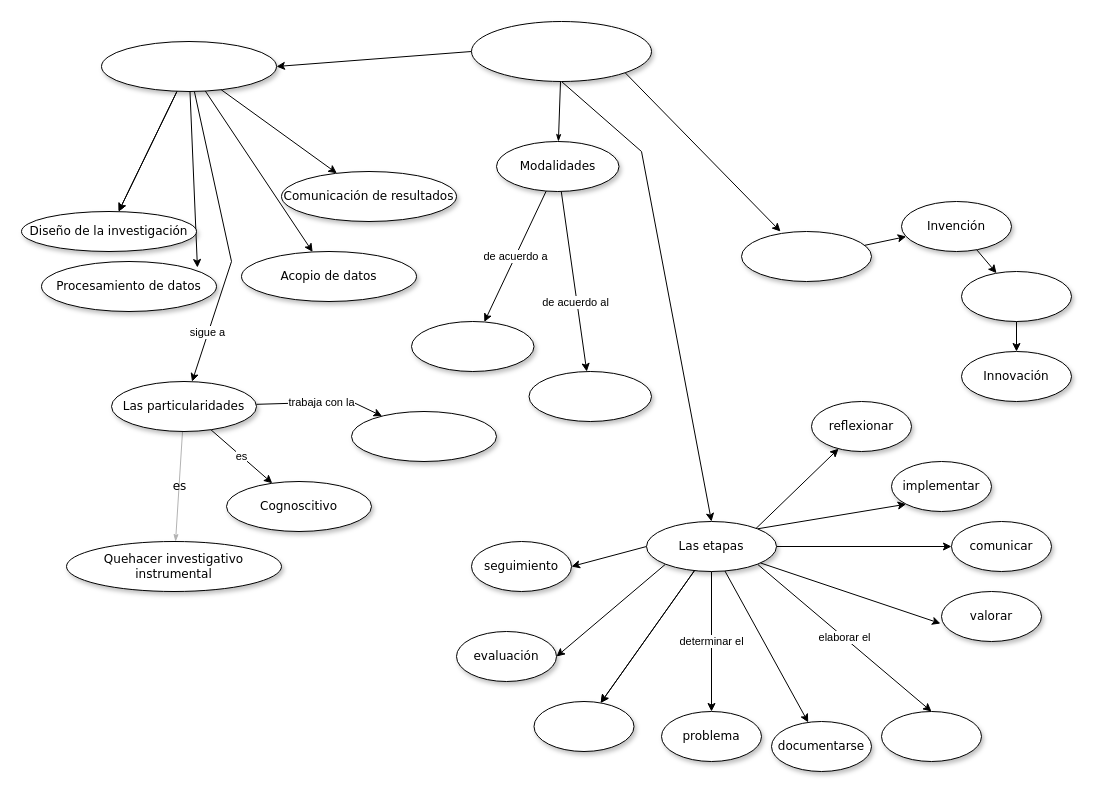
The diagram is 1095 pixels wide and 796 high, and some of its shapes have lost their labels. The centre of each missing label's shape, as x and y in pixels:
"conocimiento que se genera" goes at [591,397].
"Diseño" goes at [1017,297].
"El proceso" goes at [807,257].
"Investigación tecnológica" goes at [562,52].
"Investigar y transformar" goes at [189,67].
"observar" goes at [584,727].
"proyecto de intervención" goes at [932,737].
"realidad específica" goes at [424,437].
"uso de la información" goes at [473,347].
